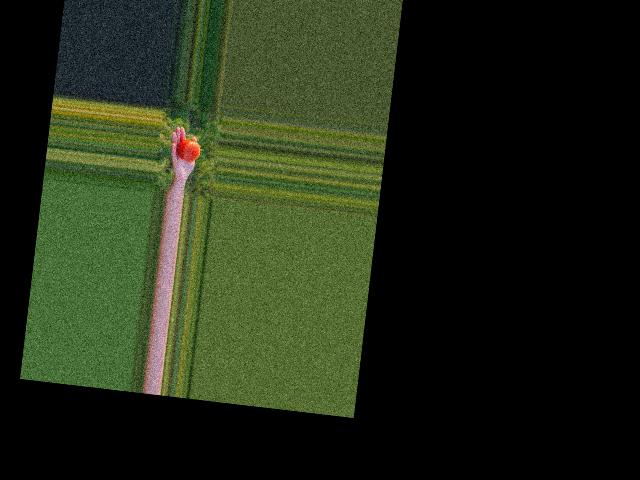tomato: (174, 138, 200, 162)
